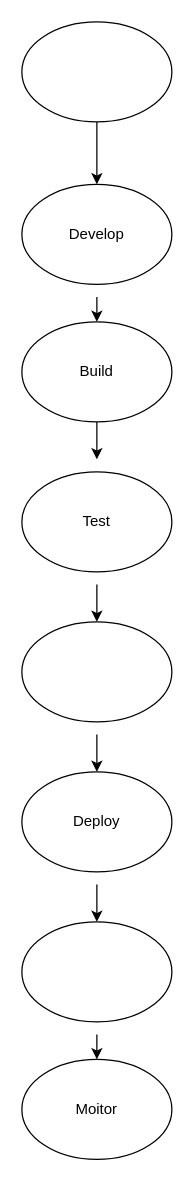
This 194x1181 diagram has some shape labels left out. The shapes that lost their labels are listed below. From the top down, each one's box as (x1, y1, x2, y2) in pixels, then its label:
(21, 21, 172, 122): Plan
(21, 621, 172, 722): Release
(21, 921, 172, 1022): Operate
